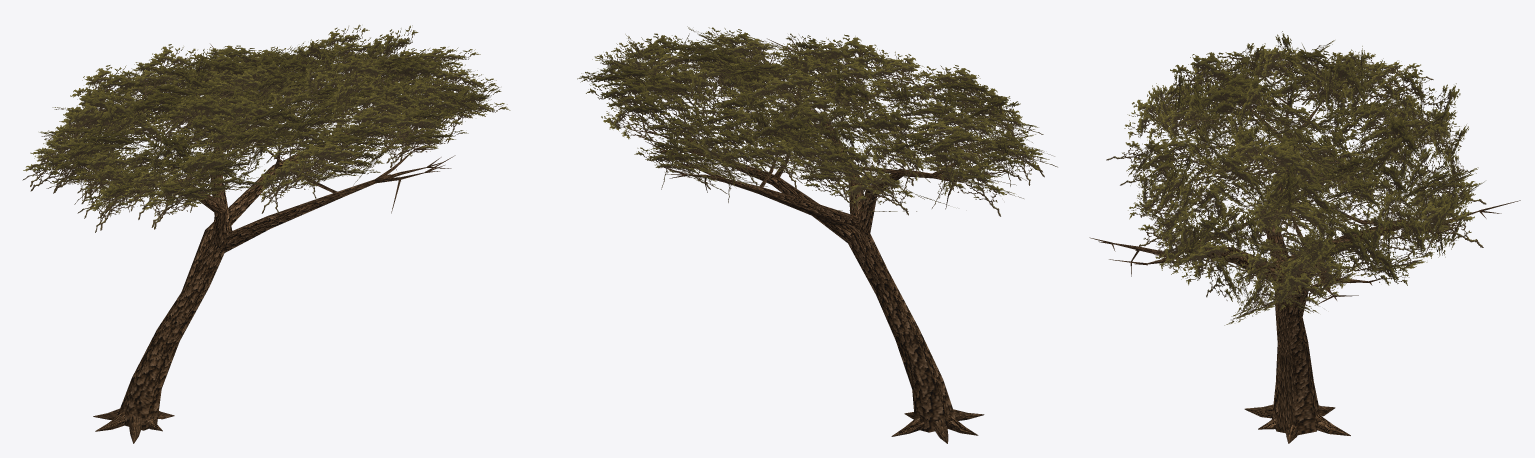
File: Acacia_03_Vento.glb
3 views of the same model, side by side, from view 1: azimuth 30°, elevation 25°; view 2: azimuth 150°, elevation 25°; view 3: azimuth 270°, elevation 25° (orthographic). The views are drawn at different scales.
Visible parts, largest first — view 1: Folhagem fina, Tronco e raizes, Ramos principais, Ramos secundarios; view 2: Folhagem fina, Tronco e raizes, Ramos principais, Ramos secundarios; view 3: Folhagem fina, Tronco e raizes, Ramos principais, Ramos secundarios, Galharia terminal.
Part boxes in pixels (left/top/right/bottom): Folhagem fina: left=22, top=24, right=510, bottom=232; Tronco e raizes: left=93, top=230, right=230, bottom=443; Ramos principais: left=154, top=123, right=390, bottom=300; Ramos secundarios: left=106, top=111, right=426, bottom=193; Folhagem fina: left=577, top=26, right=1057, bottom=216; Tronco e raizes: left=857, top=219, right=984, bottom=443; Ramos principais: left=688, top=101, right=944, bottom=299; Ramos secundarios: left=655, top=55, right=974, bottom=187; Folhagem fina: left=1106, top=31, right=1486, bottom=325; Tronco e raizes: left=1244, top=260, right=1350, bottom=443; Ramos principais: left=1174, top=150, right=1423, bottom=328; Ramos secundarios: left=1113, top=104, right=1478, bottom=295; Galharia terminal: left=1089, top=84, right=1520, bottom=305.
Size of the model in its own units: 10.6 by 6.64 by 6.88.
Materials: 2 (2 with a texture image).
